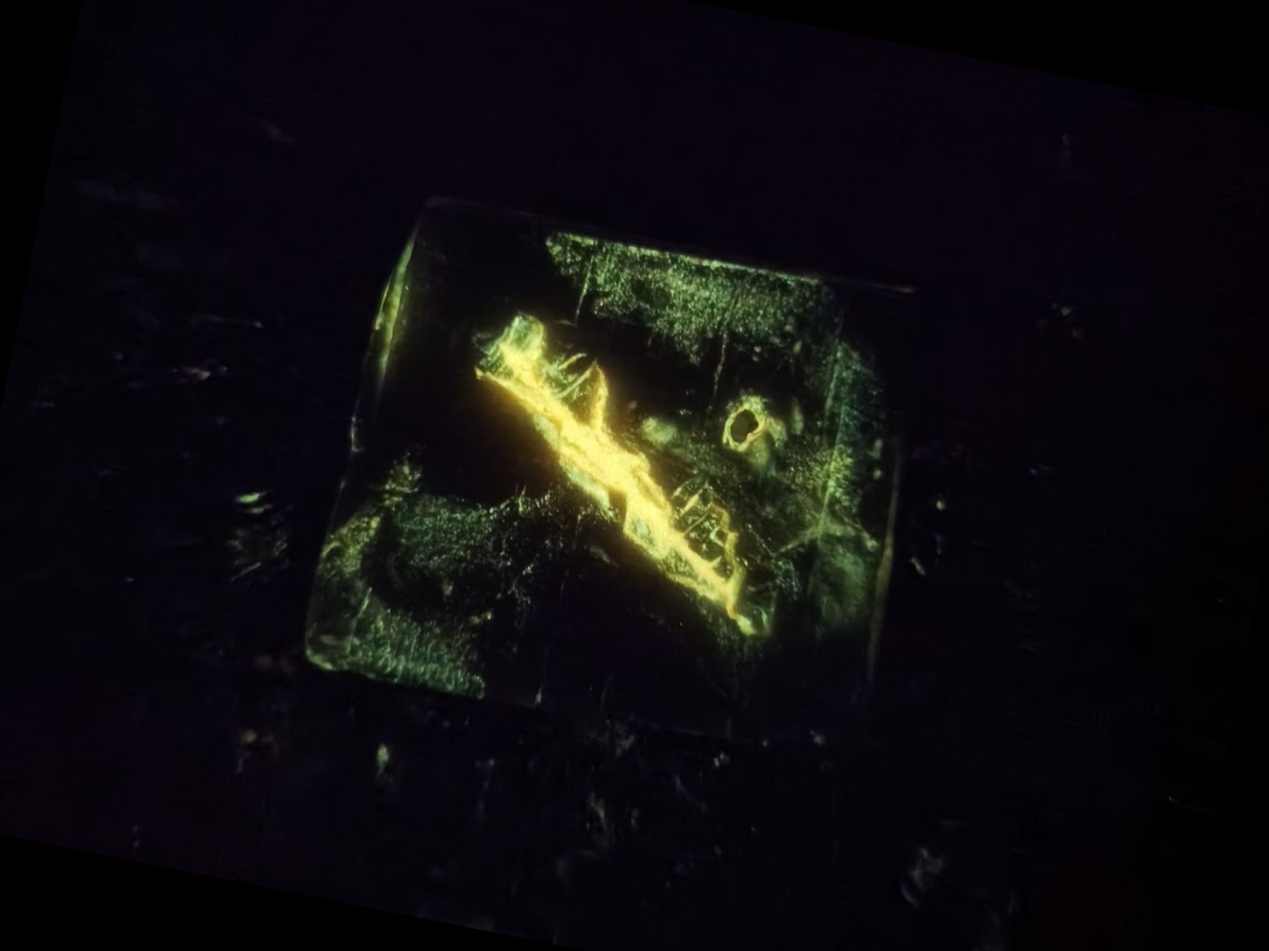Crater: (706, 379, 794, 470)
Fissure: (433, 311, 798, 625)
